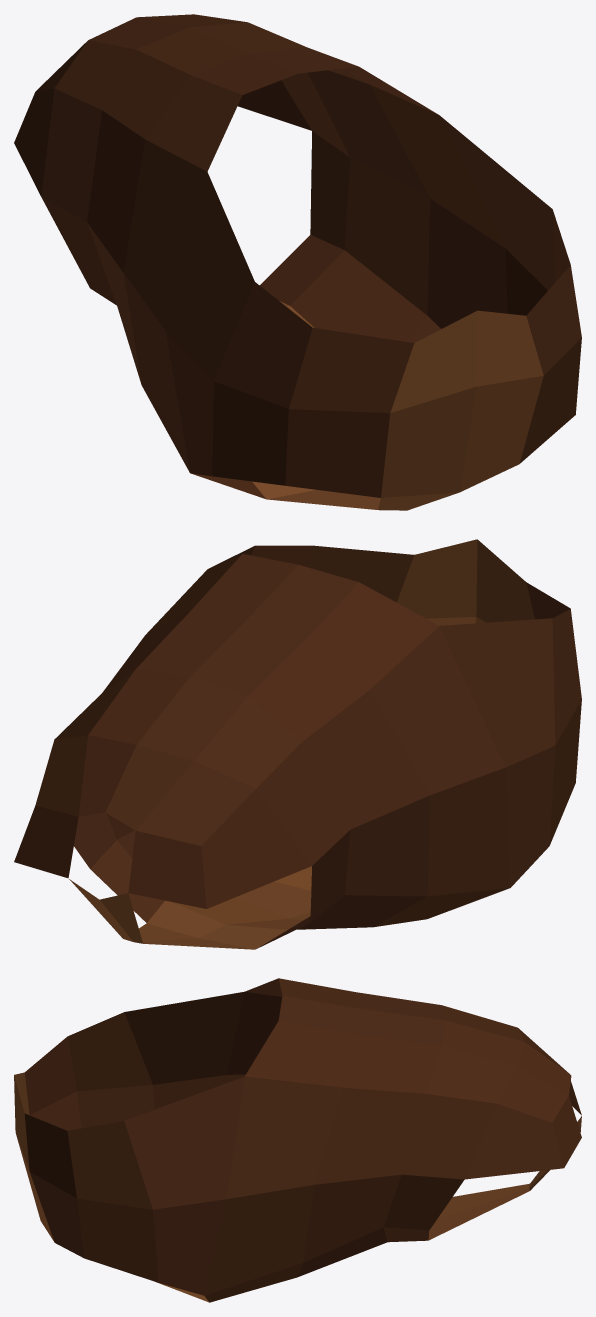
Rendered from body_dog.obj.
3 views of the same model, one above another, from view 1: azimuth 30°, elevation 25°; view 2: azimuth 150°, elevation 25°; view 3: azimuth 270°, elevation 25° (orthographic). The views are drawn at different scales.
Visible parts, largest first — view 1: body; view 2: body; view 3: body.
Part boxes in pixels (bbox=[...]): body: bbox=[14, 14, 581, 510]; body: bbox=[14, 539, 581, 949]; body: bbox=[14, 978, 581, 1302].
Size of the model in its own units: 0.242 by 0.2524 by 0.4654.
